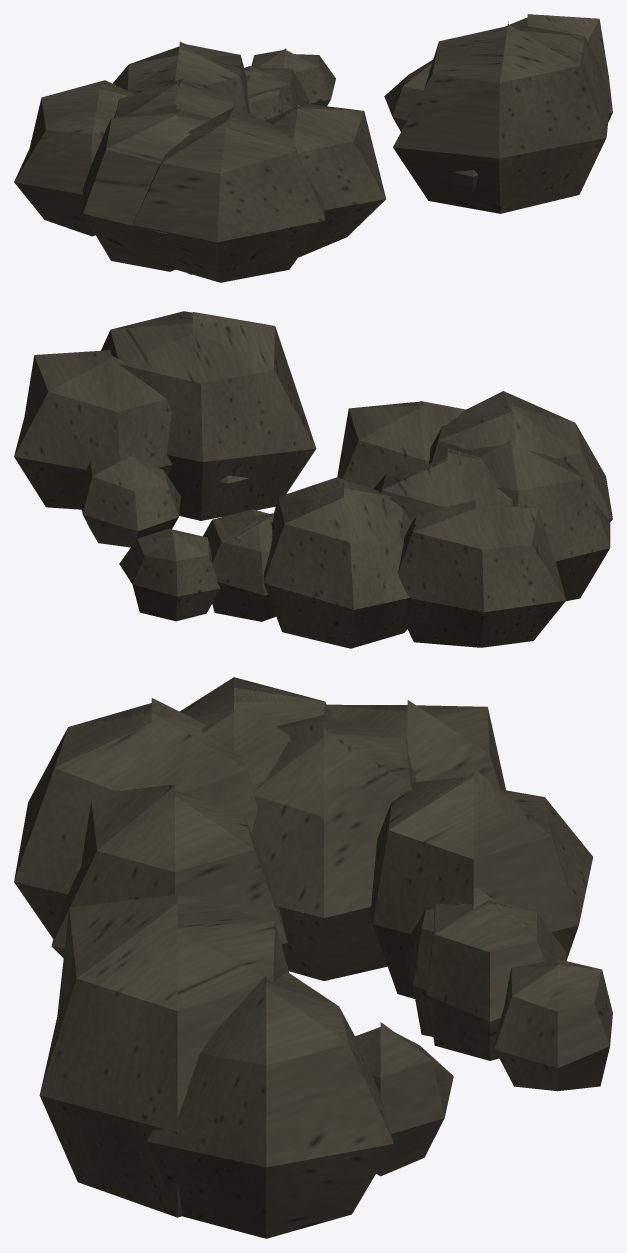
Rendered from PROP-A033083676EE_lod2.glb.
3 renders of one model, top to bottom at view 1: azimuth 30°, elevation 25°; view 2: azimuth 150°, elevation 25°; view 3: azimuth 270°, elevation 25°, orthographic. The views are drawn at different scales.
Parts seen in each view (by area): view 1: rock.003; view 2: rock.003; view 3: rock.003.
Part boxes in pixels (bbox=[...]): rock.003: bbox=[14, 14, 612, 282]; rock.003: bbox=[14, 311, 612, 648]; rock.003: bbox=[14, 677, 612, 1238].
Bounding box in the file's own units: 1.68 × 0.4725 × 1.
Materials: 1 (1 with a texture image).
